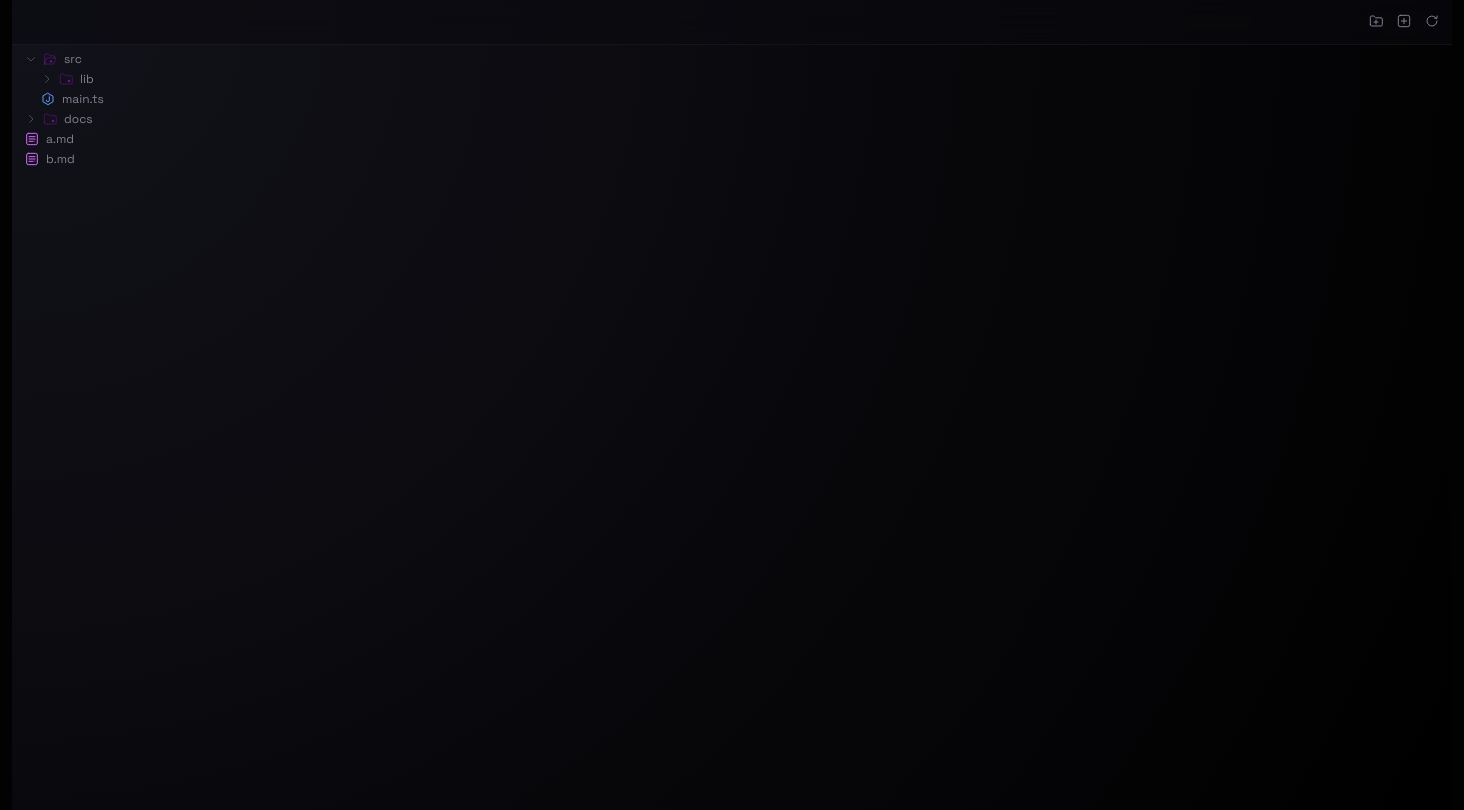
Test case: FileExplorer — dragging rows onto folders › cancels the drag on Escape
Press the mouse on the button "a.md" at (32, 139), box [12,129,1452,149]
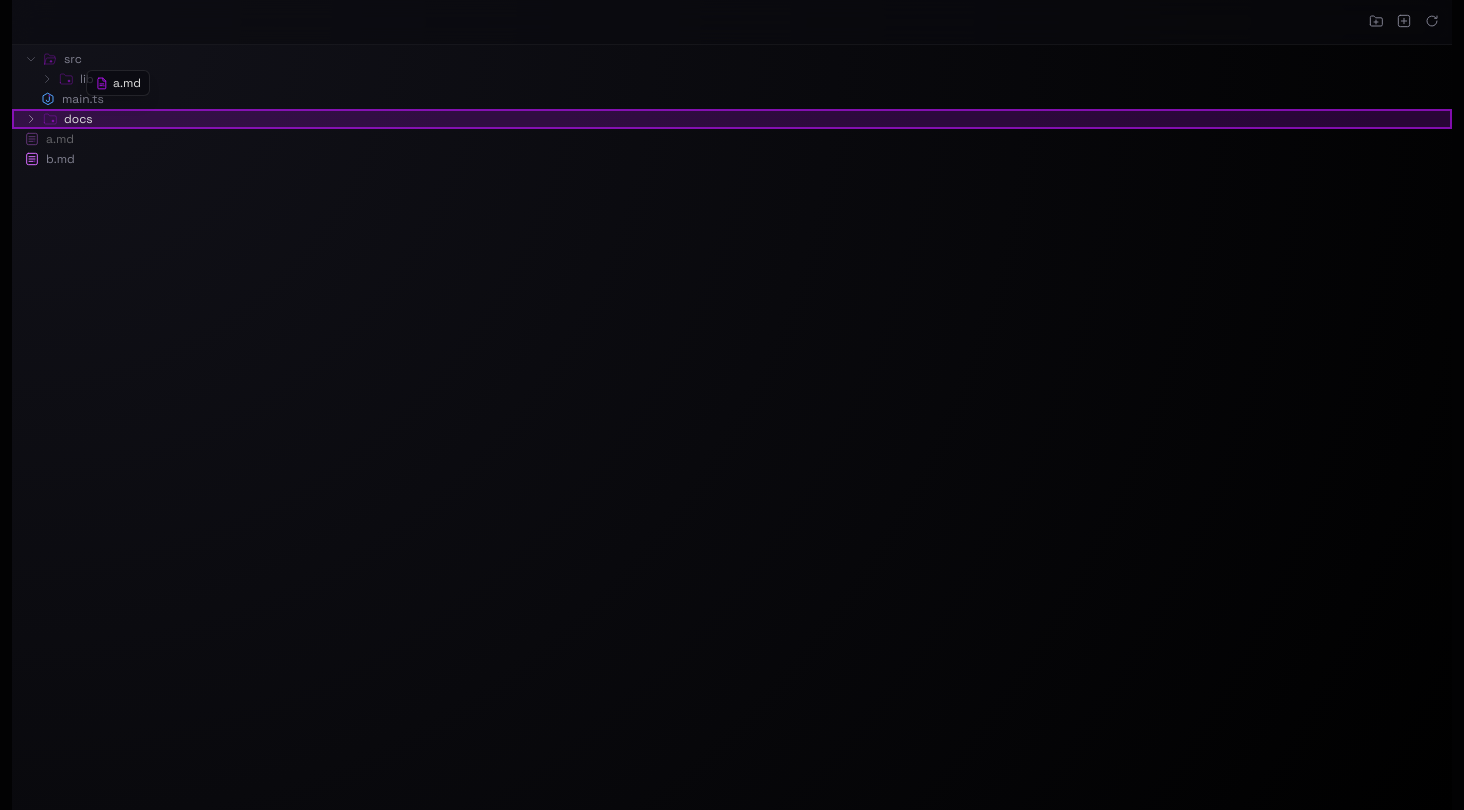
Press Escape
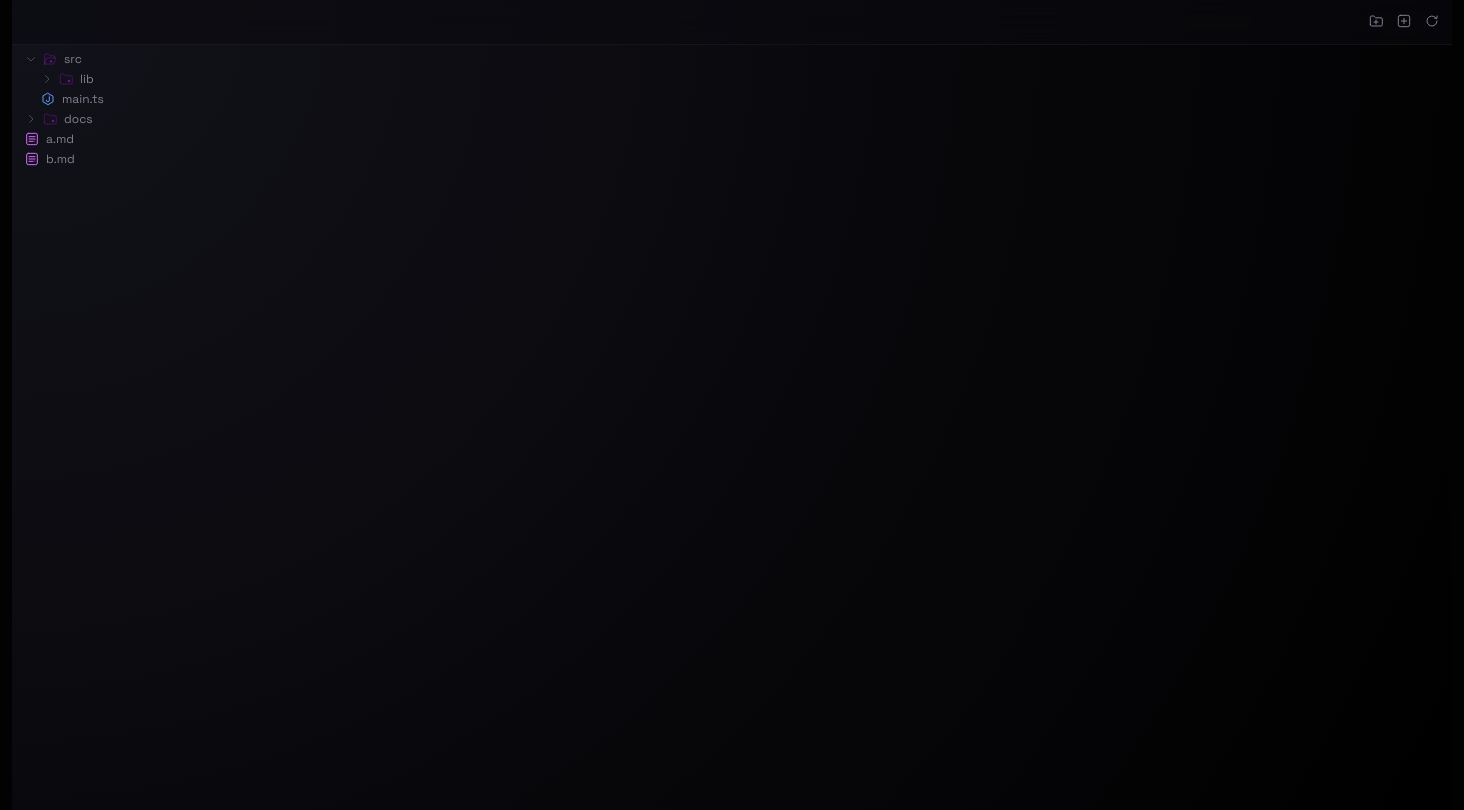
Check: the element with test id "tree-drag-ghost" is gone
